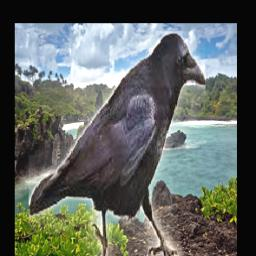Crow: (29, 31, 206, 256)
